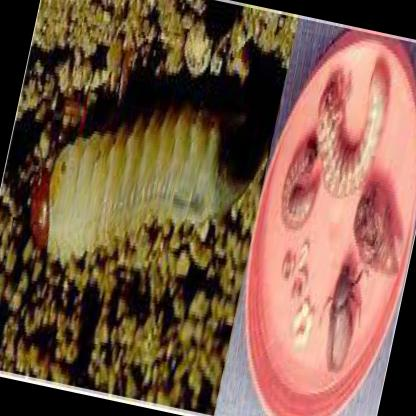root grubs: (29, 111, 261, 257), (317, 68, 388, 196)
